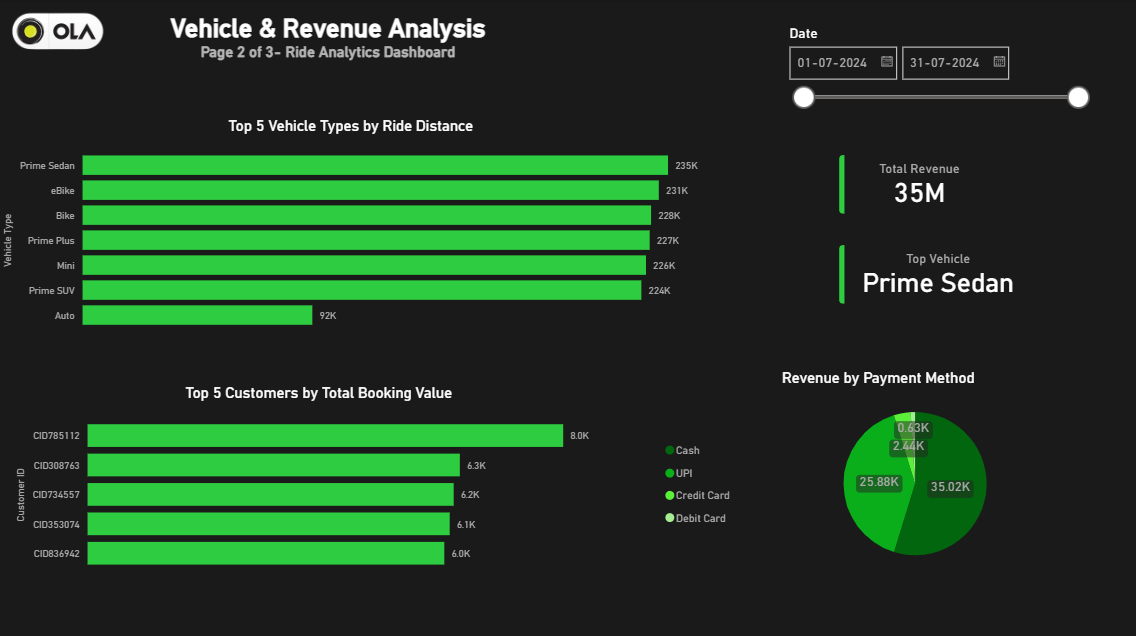

Layout of this report page (visuals, bound fields, positions):
{"tool":"powerbi","page":{"name":"Vehicle & Revenue Analyis","canvas":[1280,720],"ordinal":1},"visuals":[{"type":"image","box":[13.8,13.8,105,48.8],"z":0},{"type":"textbox","box":[143.9,11.6,452.4,91.2],"z":1000},{"type":"barChart","title":"Top 5 Vehicle Types by Ride Distance","fields":{"Category":["July.Vehicle_Type"],"Y":["Sum(July.Ride_Distance)"]},"box":[0,132.4,791.6,250.6],"z":2000},{"type":"pieChart","title":"Revenue by Payment Method","fields":{"Y":["CountNonNull(July.Payment_Method)"],"Category":["July.Payment_Method"]},"box":[744.1,416.4,490.9,239],"z":3000},{"type":"cardVisual","fields":{"Data":["Sum(July.Booking_Value)"]},"box":[927.9,158.1,215.9,100.2],"z":4000},{"type":"slicer","fields":{"Values":["July.Date"]},"box":[876.5,23.1,358.6,158.1],"z":5000},{"type":"barChart","title":"Top 5 Customers by Total Booking Value","fields":{"Category":["July.Customer_ID"],"Y":["Sum(July.Booking_Value)"]},"box":[14.1,433.1,690.1,222.3],"z":6000},{"type":"cardVisual","fields":{"Data":["Min(July.Vehicle_Type)"]},"box":[927.9,259.6,257,100.2],"z":7000}]}

Visuals, with their boxes in screenshot pixels (x1, y1, x2, y2), scaled from the page's 1280x720 canvas onto the 1136x636 screenshot:
image: l=12, t=12, r=105, b=55
textbox: l=128, t=10, r=529, b=91
"Top 5 Vehicle Types by Ride Distance" barChart: l=0, t=117, r=703, b=338
"Revenue by Payment Method" pieChart: l=660, t=368, r=1096, b=579
cardVisual - Sum(July.Booking_Value): l=824, t=140, r=1015, b=228
slicer - July.Date: l=778, t=20, r=1096, b=160
"Top 5 Customers by Total Booking Value" barChart: l=13, t=383, r=625, b=579
cardVisual - Min(July.Vehicle_Type): l=824, t=229, r=1052, b=318
